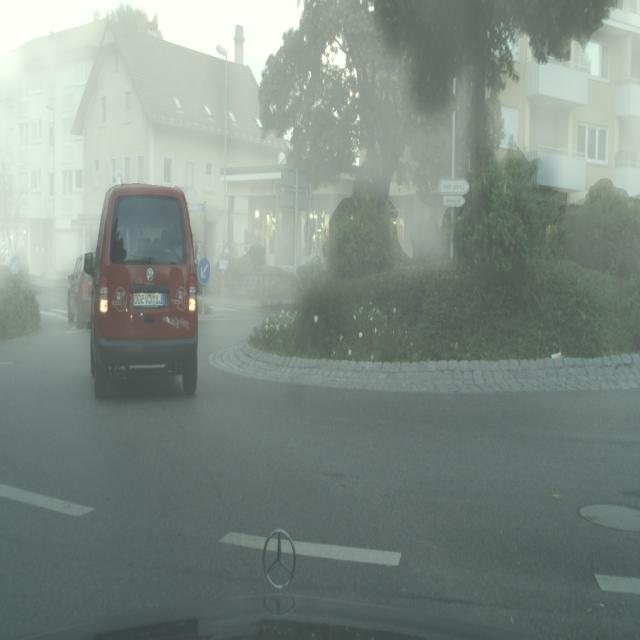person: (89, 182, 199, 399), (71, 252, 94, 329), (67, 255, 82, 325)
